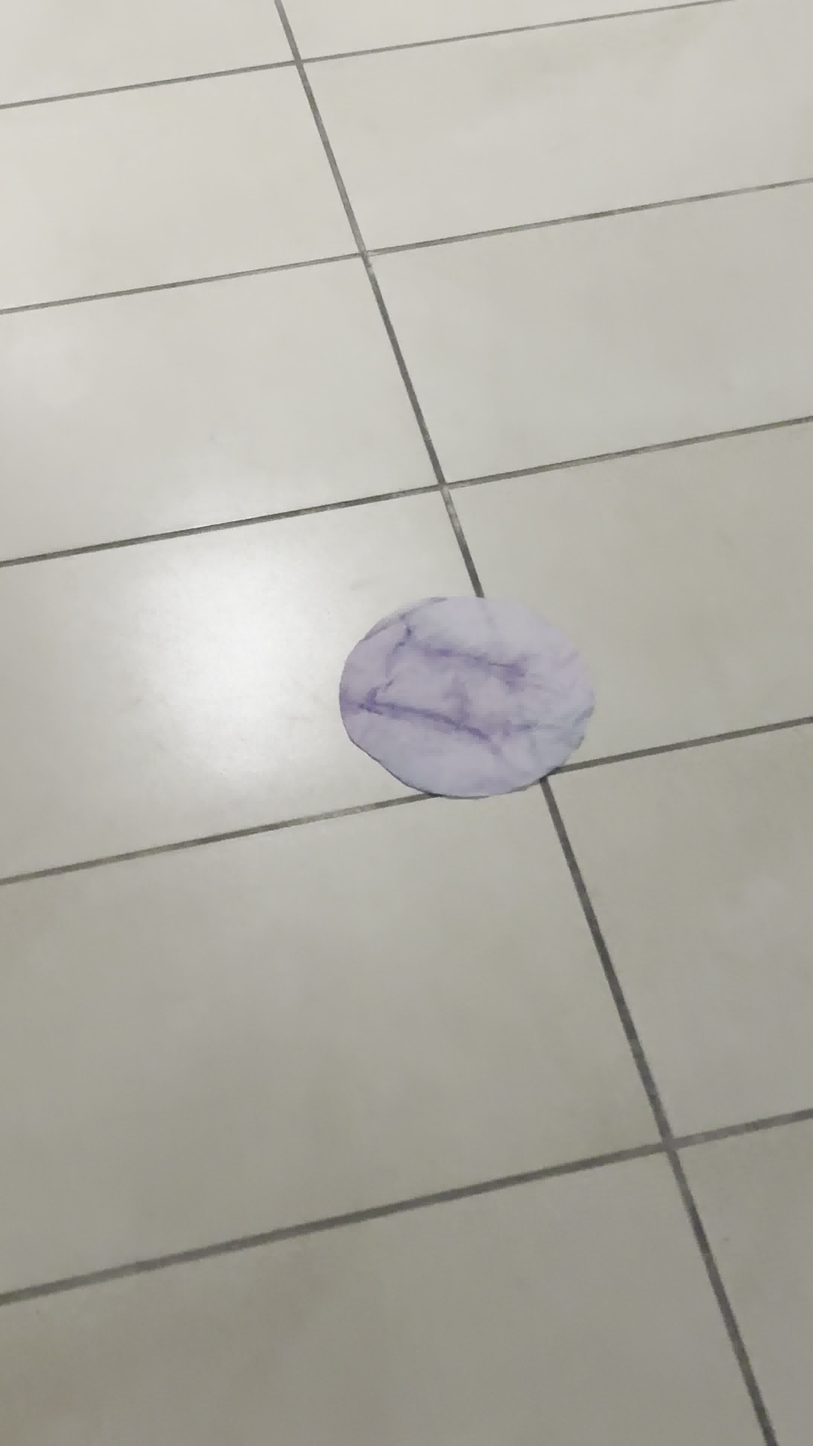Target: (341, 594, 599, 801)
